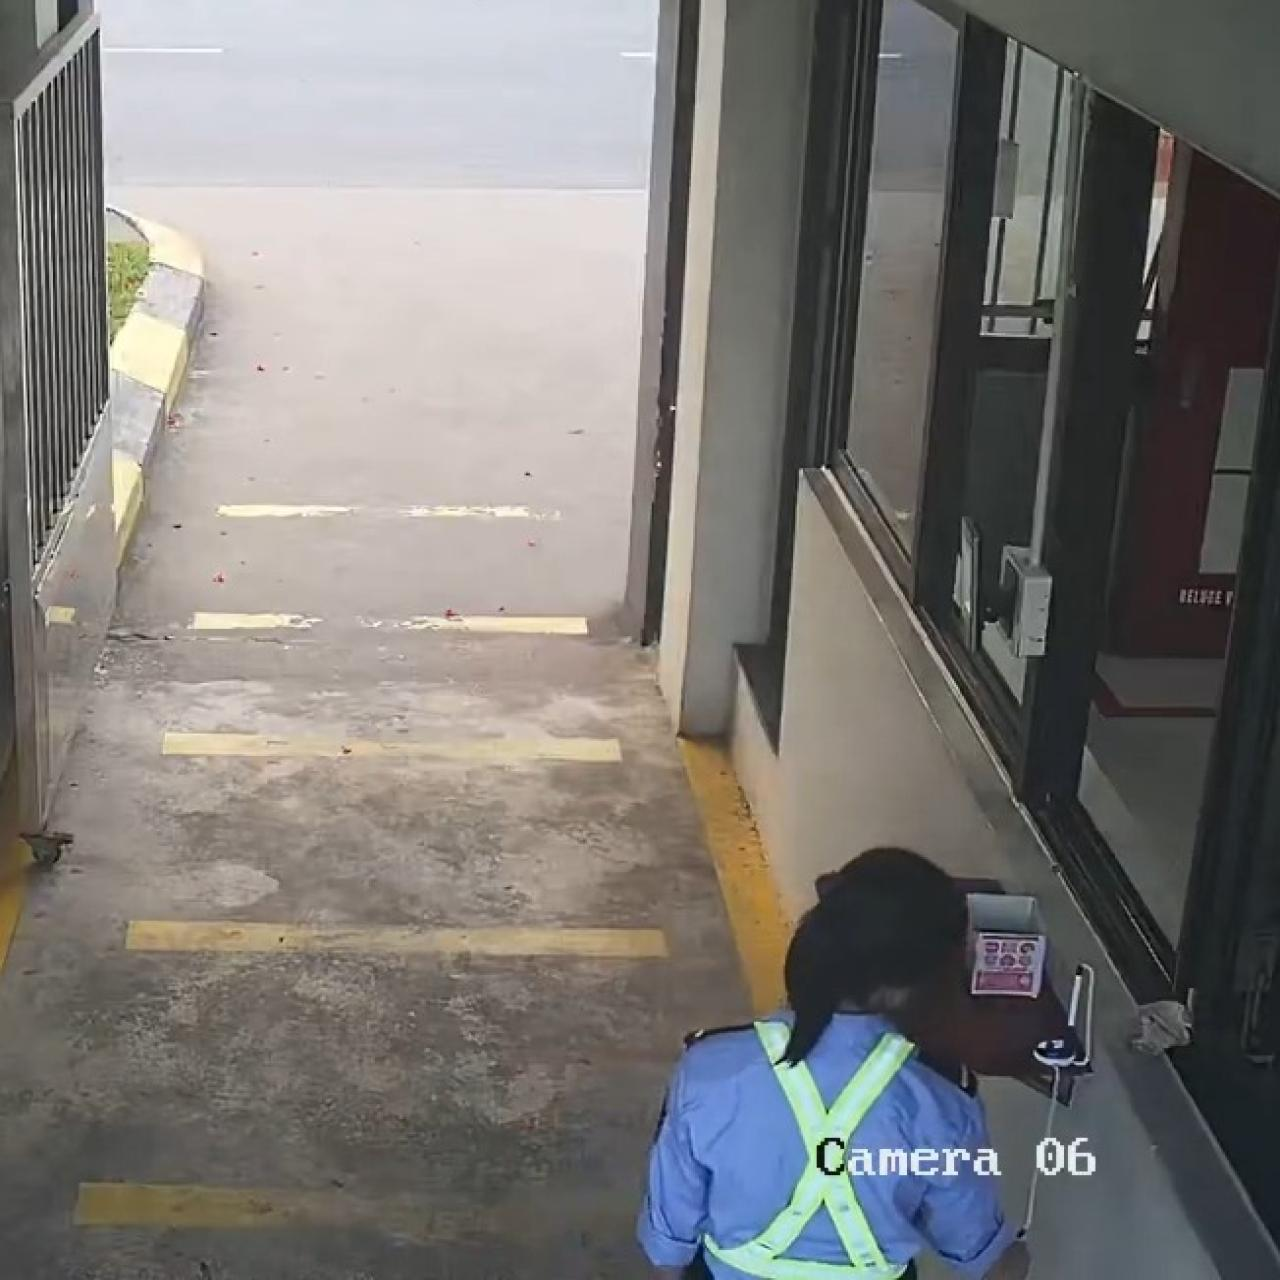guard: (632, 842, 1094, 1276)
